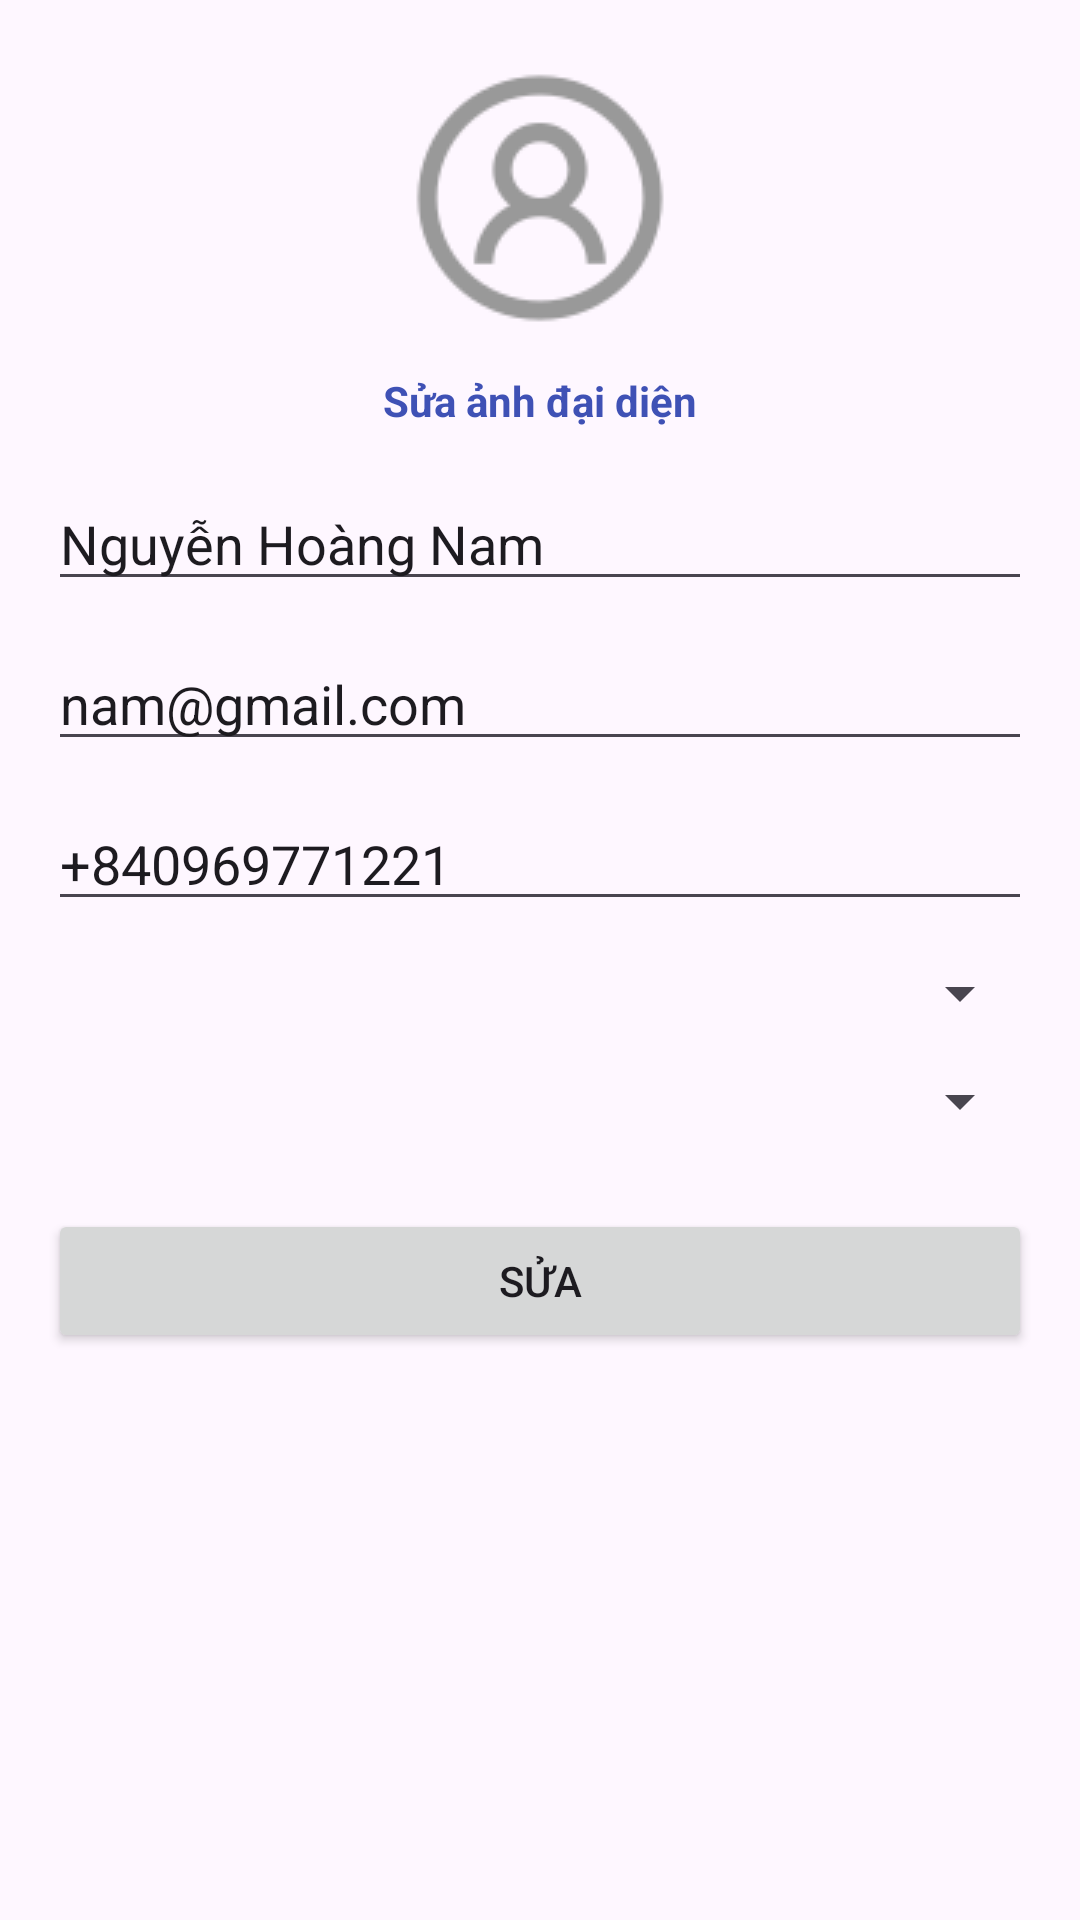

Icon bounding boxes for this 1080px×1920px phone screenshot, format (x1, y1, x2, y2):
user: (417, 75, 663, 321)
